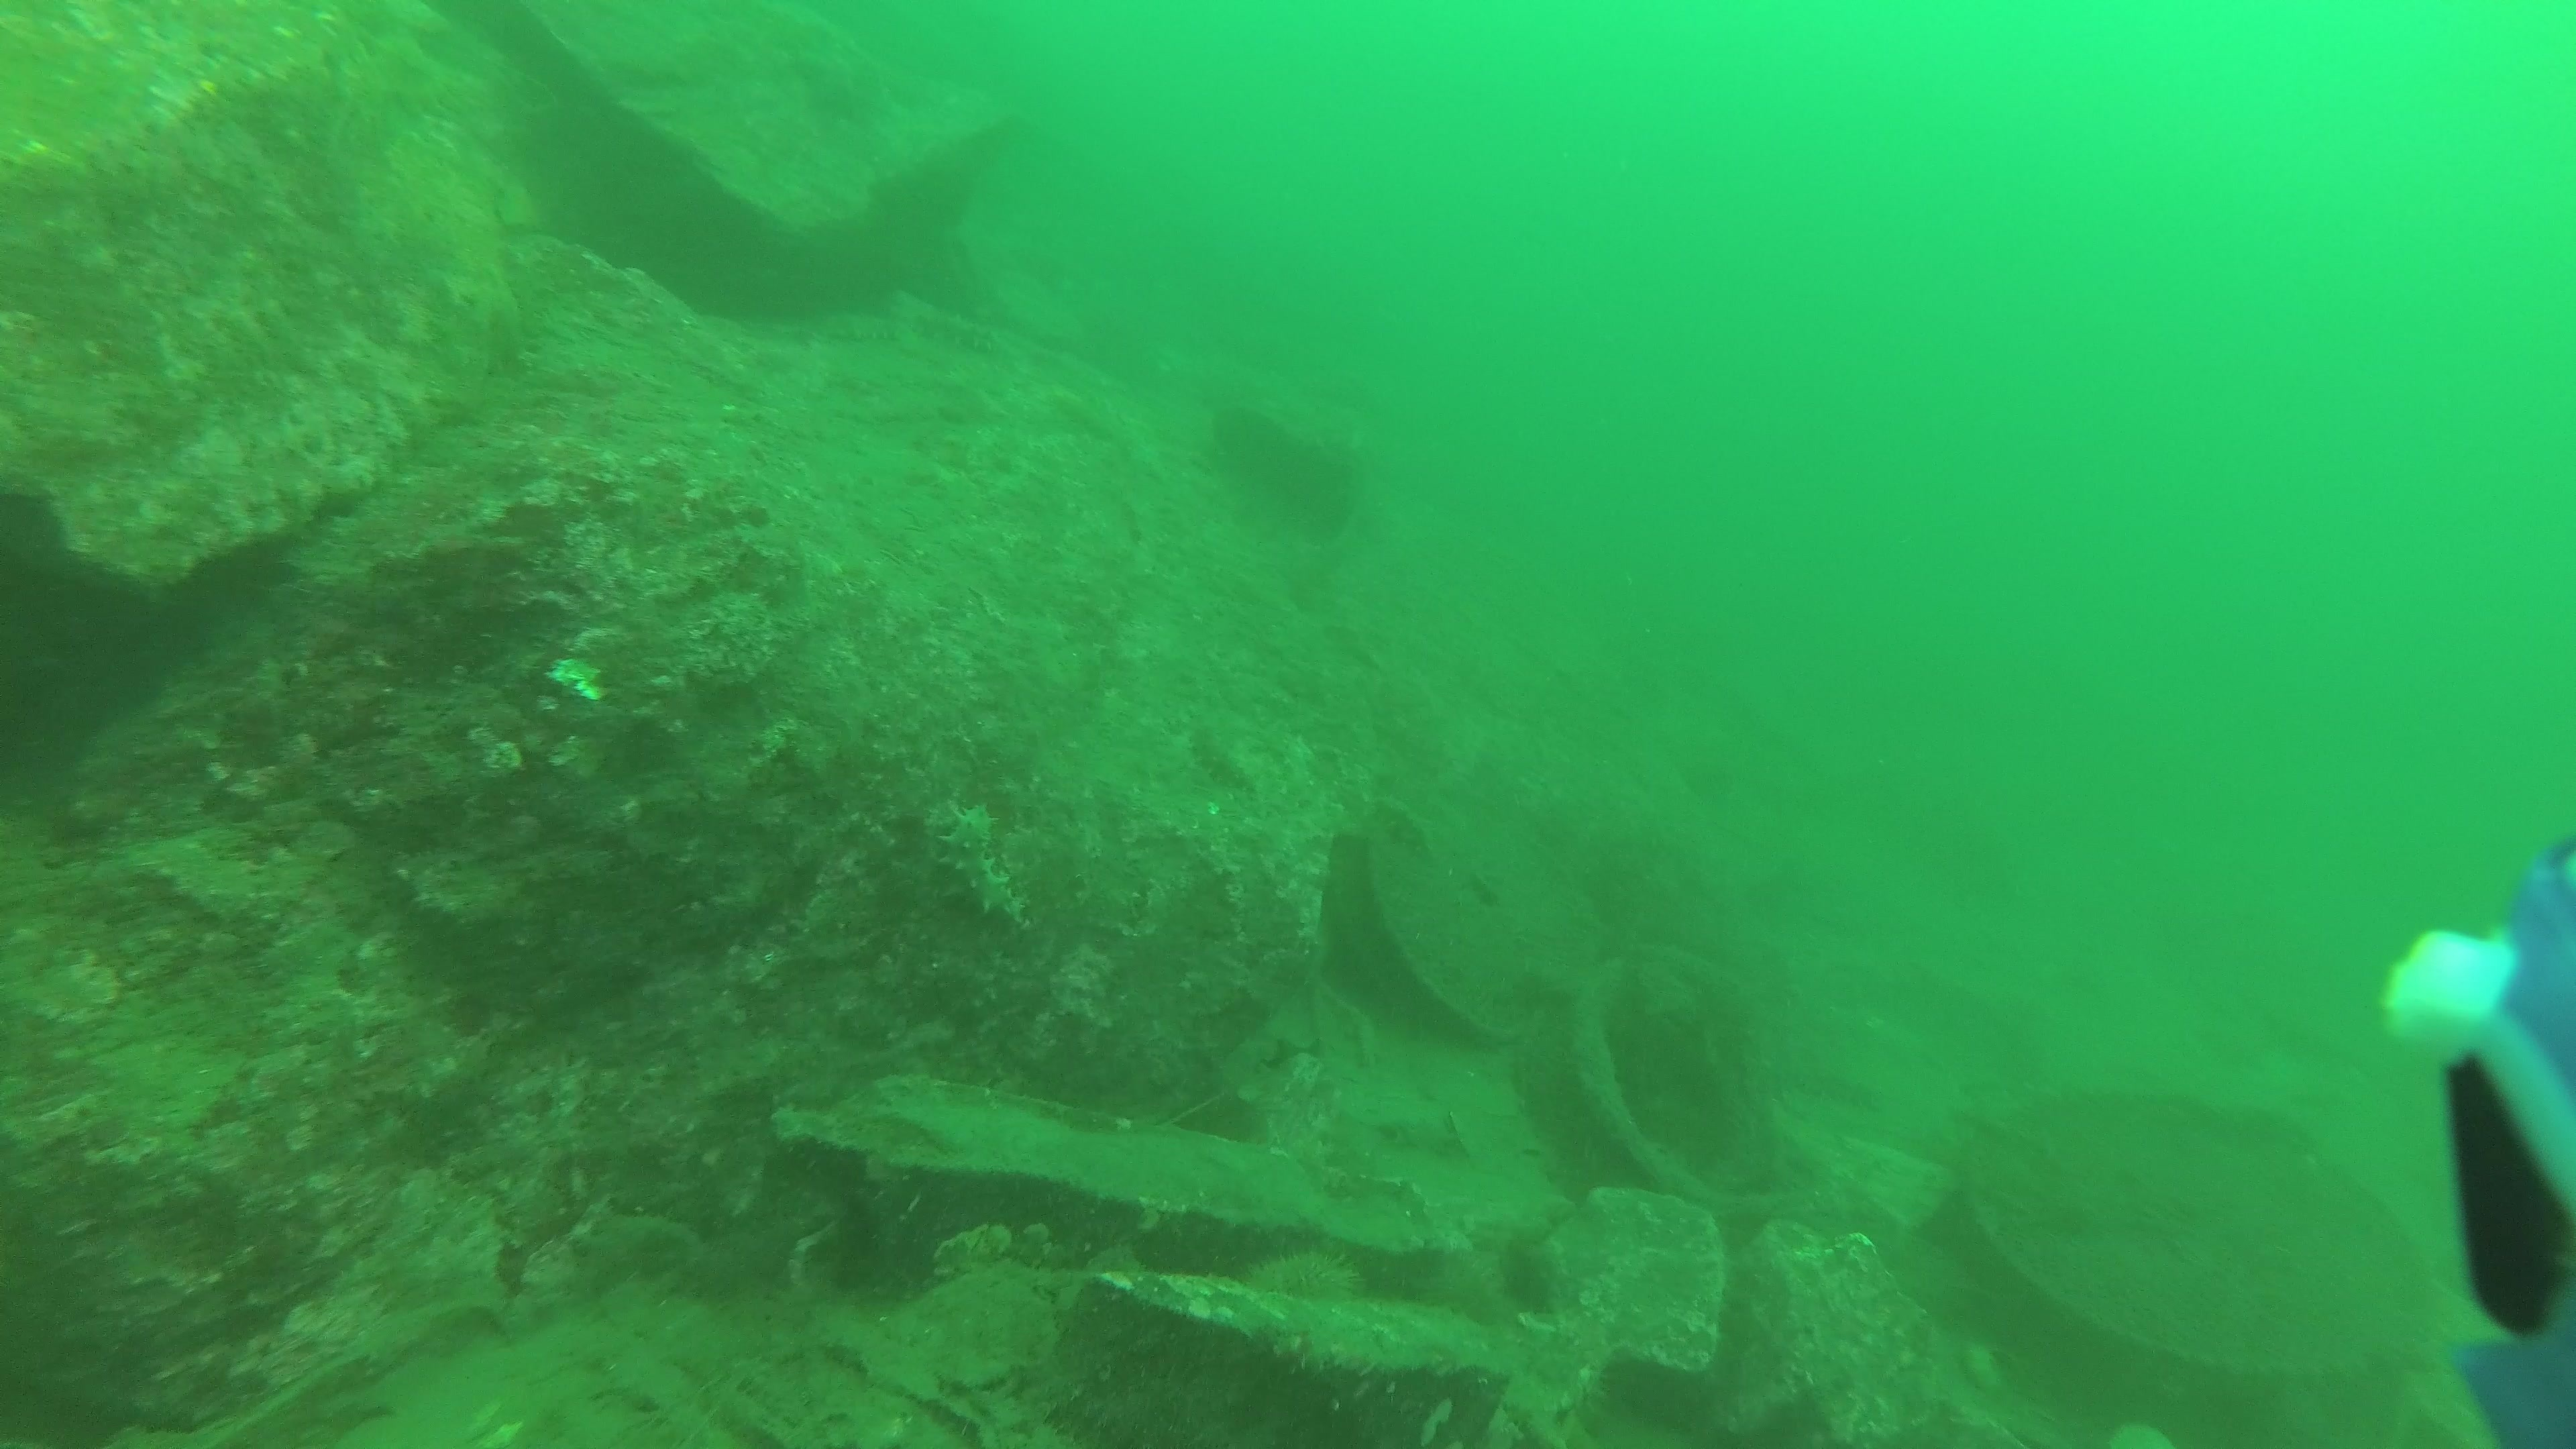echinus: (1242, 1242, 1369, 1315)
holothurian: (932, 796, 1031, 931), (1184, 709, 1253, 793)
